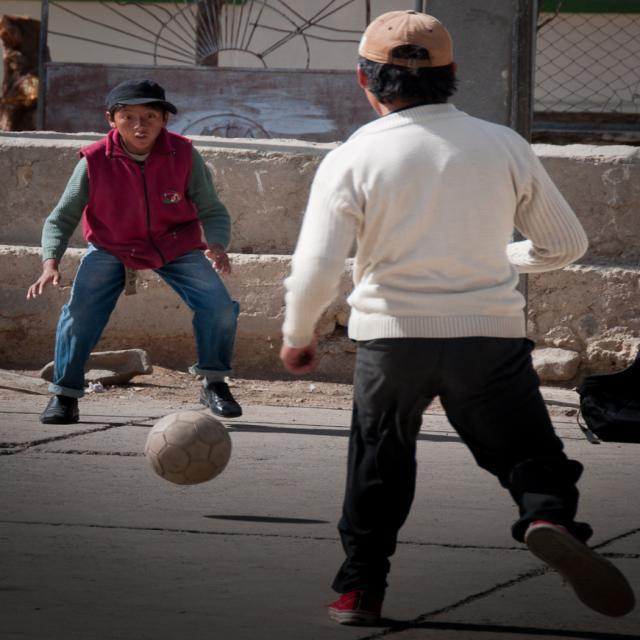football: (137, 401, 241, 497)
